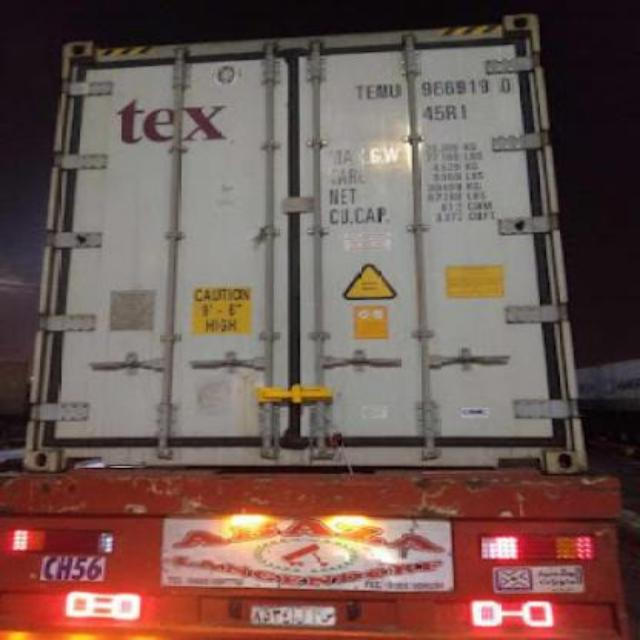0: (496, 74, 516, 96)
1: (466, 74, 476, 96)
6: (432, 75, 444, 101), (444, 78, 454, 99)
9: (476, 69, 488, 101), (418, 76, 432, 102), (454, 75, 464, 98)
E: (364, 77, 376, 106)
M: (376, 76, 386, 104)
T: (352, 82, 366, 105)
U: (388, 72, 400, 104)
